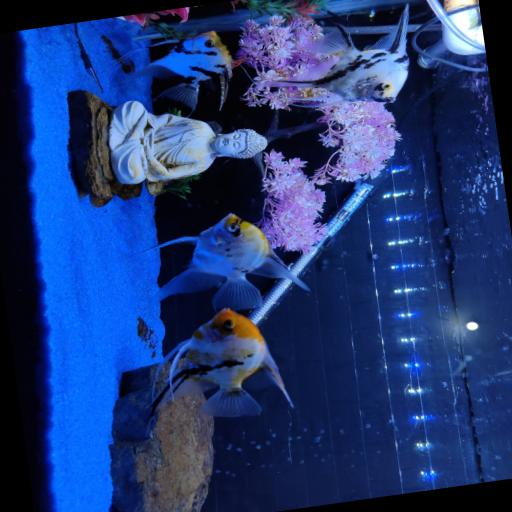Fish: (142, 213, 308, 309), (149, 308, 292, 417), (262, 4, 408, 104), (131, 31, 231, 109)
